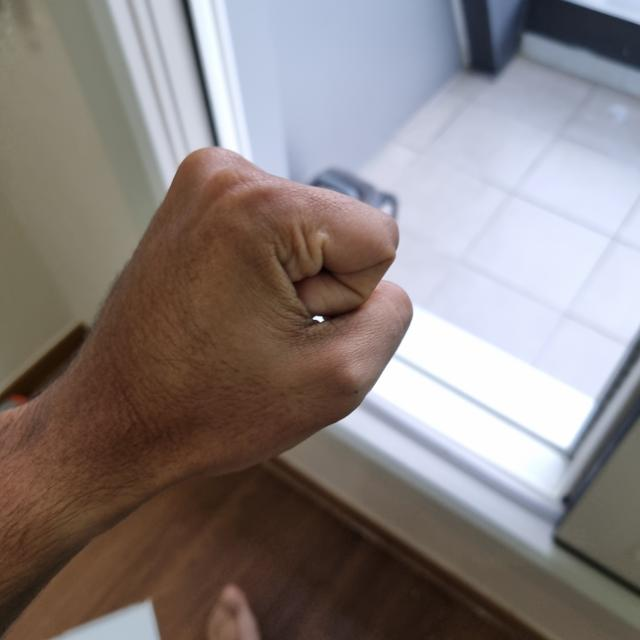Rock: (69, 146, 410, 477)
